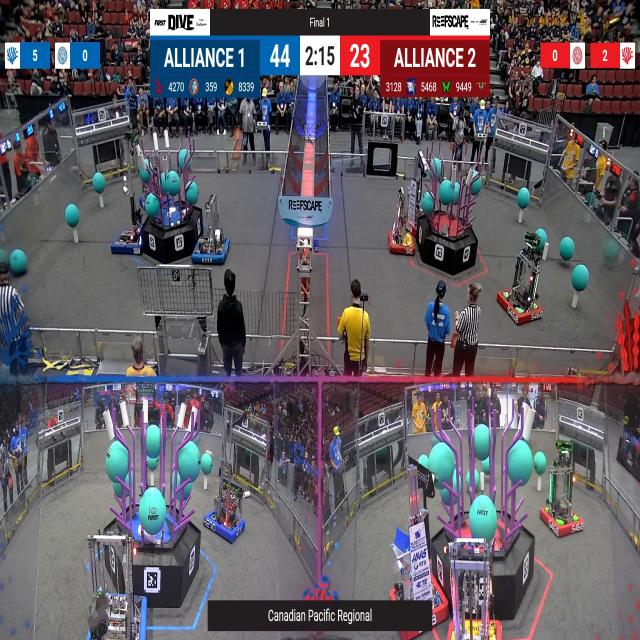scoreboard: (149, 36, 490, 98)
